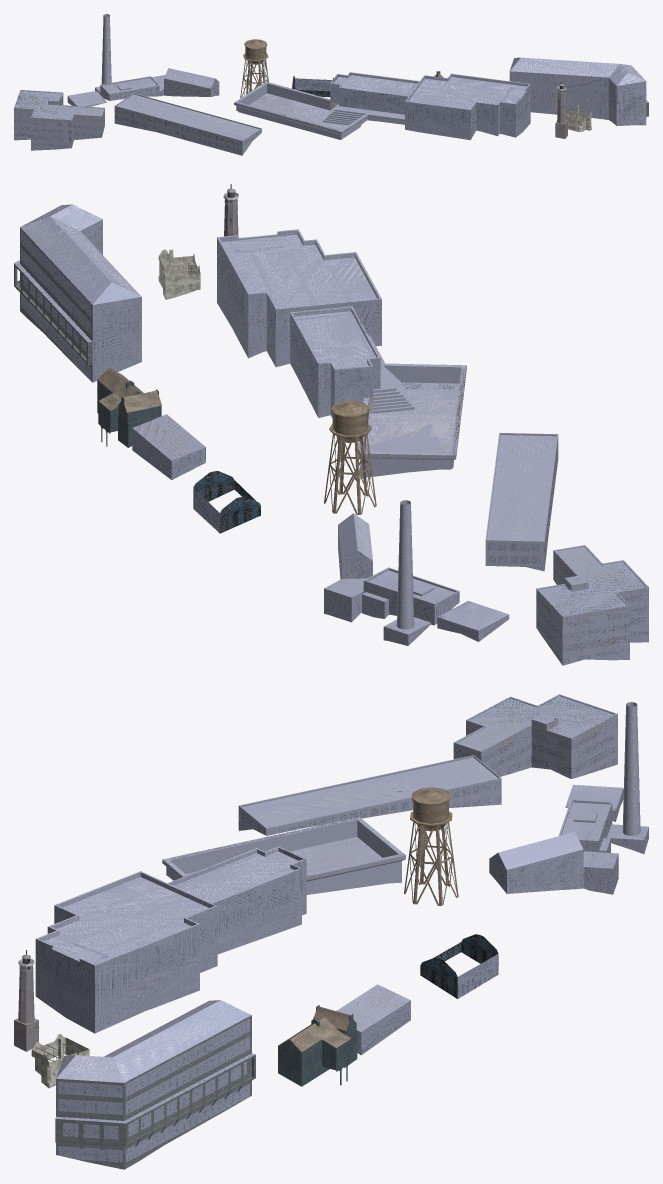
The model's file is Alcatraz.fbx.
3 renders of one model, top to bottom at view 1: azimuth 30°, elevation 25°; view 2: azimuth 150°, elevation 25°; view 3: azimuth 270°, elevation 25°, orthographic. The views are drawn at different scales.
Visible parts, largest first — view 1: Model; view 2: Model; view 3: Model.
Part boxes in pixels (left/top/right/bottom): Model: left=14, top=14, right=648, bottom=155; Model: left=14, top=188, right=648, bottom=665; Model: left=14, top=694, right=648, bottom=1169.
Size of the model in its own units: 385 by 67.39 by 248.
